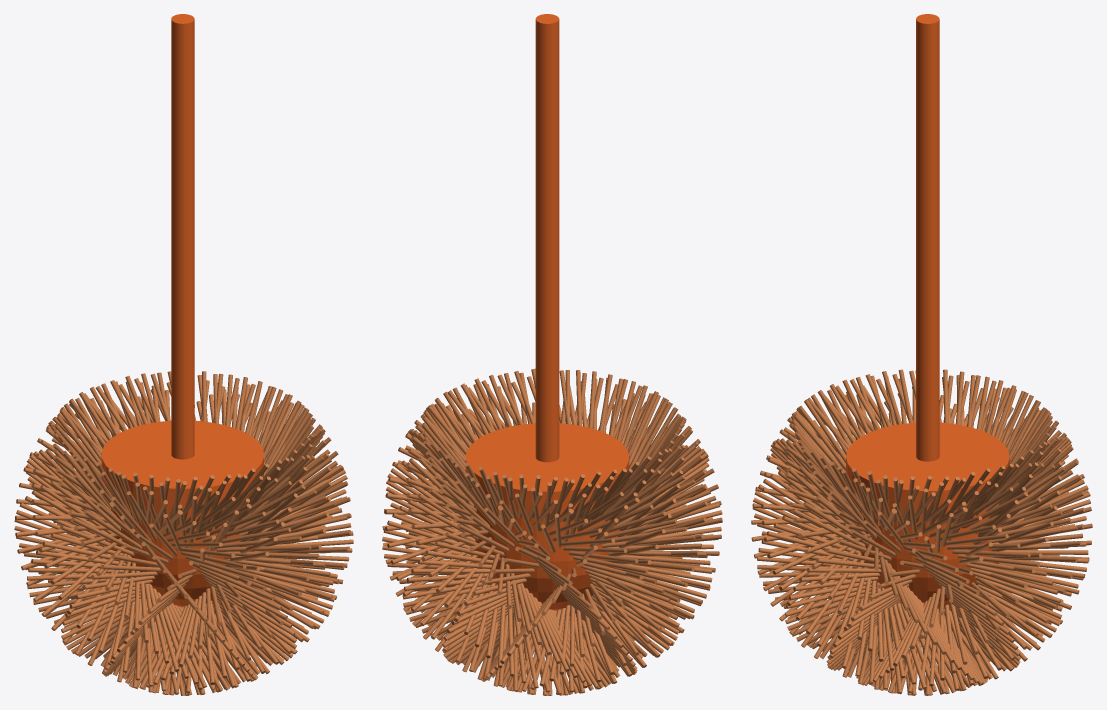
The model's file is firca.fbx.
3 renders of one model, left to right at view 1: azimuth 30°, elevation 25°; view 2: azimuth 150°, elevation 25°; view 3: azimuth 270°, elevation 25°, orthographic.
Parts seen in each view (by area): view 1: Cylinder.001, Cylinder; view 2: Cylinder.001, Cylinder; view 3: Cylinder.001, Cylinder.
Part boxes in pixels (left/top/right/bottom): Cylinder.001: left=14, top=371, right=353, bottom=695; Cylinder: left=101, top=14, right=263, bottom=607; Cylinder.001: left=382, top=368, right=722, bottom=695; Cylinder: left=465, top=14, right=629, bottom=610; Cylinder.001: left=751, top=369, right=1092, bottom=695; Cylinder: left=846, top=14, right=1009, bottom=609.
Bounding box in the file's own units: 5.33 × 11.27 × 5.35.
